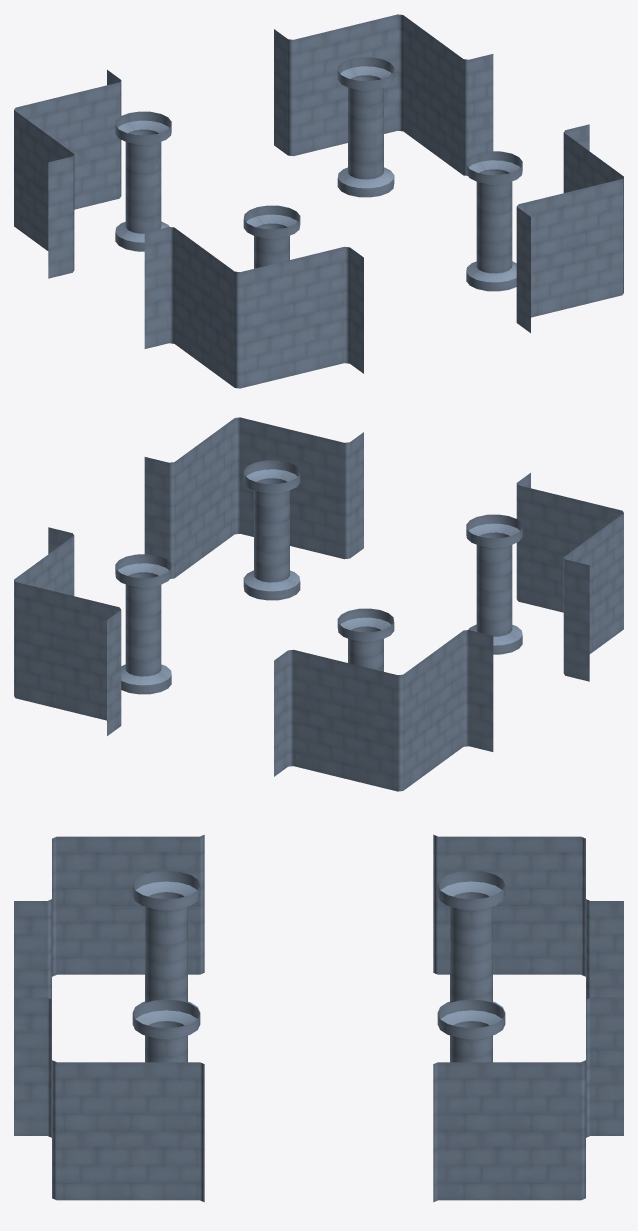
The model's file is TileOccultRoom.fbx.
3 views of the same model, one above another, from view 1: azimuth 30°, elevation 25°; view 2: azimuth 150°, elevation 25°; view 3: azimuth 270°, elevation 25° (orthographic). The views are drawn at different scales.
Visible parts, largest first — view 1: TileOccultRoom; view 2: TileOccultRoom; view 3: TileOccultRoom.
Boxes of the visible parts, x1,y1,x2,y2 form: TileOccultRoom: [14, 14, 623, 388]; TileOccultRoom: [14, 417, 623, 791]; TileOccultRoom: [14, 834, 623, 1202].
Bounding box in the file's own units: 16 × 4 × 16.
